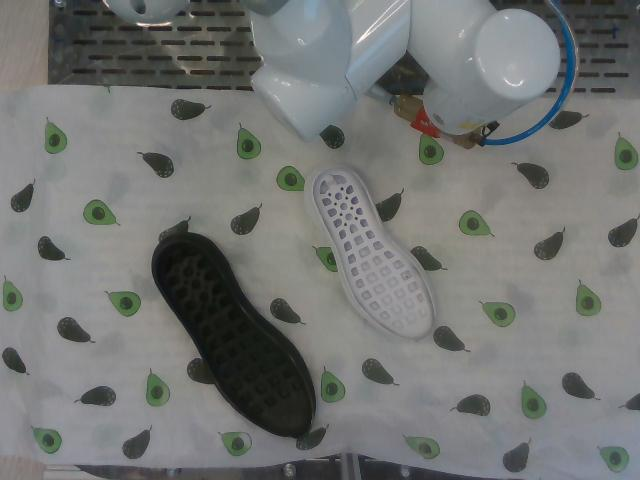shoes: (156, 242, 312, 437), (313, 167, 435, 341)
